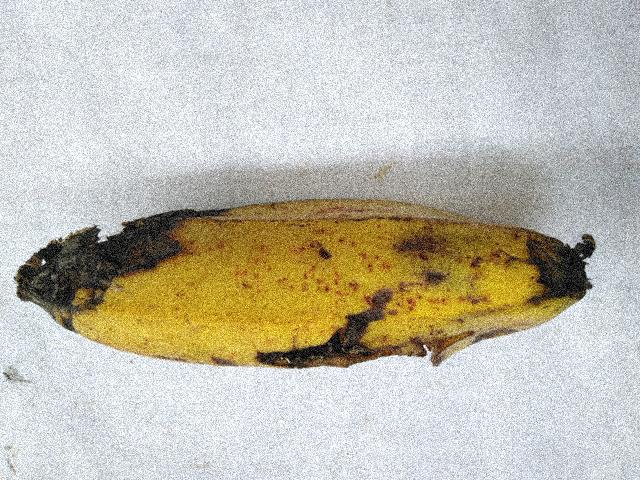rotten: (0, 168, 231, 353), (188, 281, 504, 412), (332, 140, 528, 276), (477, 191, 604, 332)
